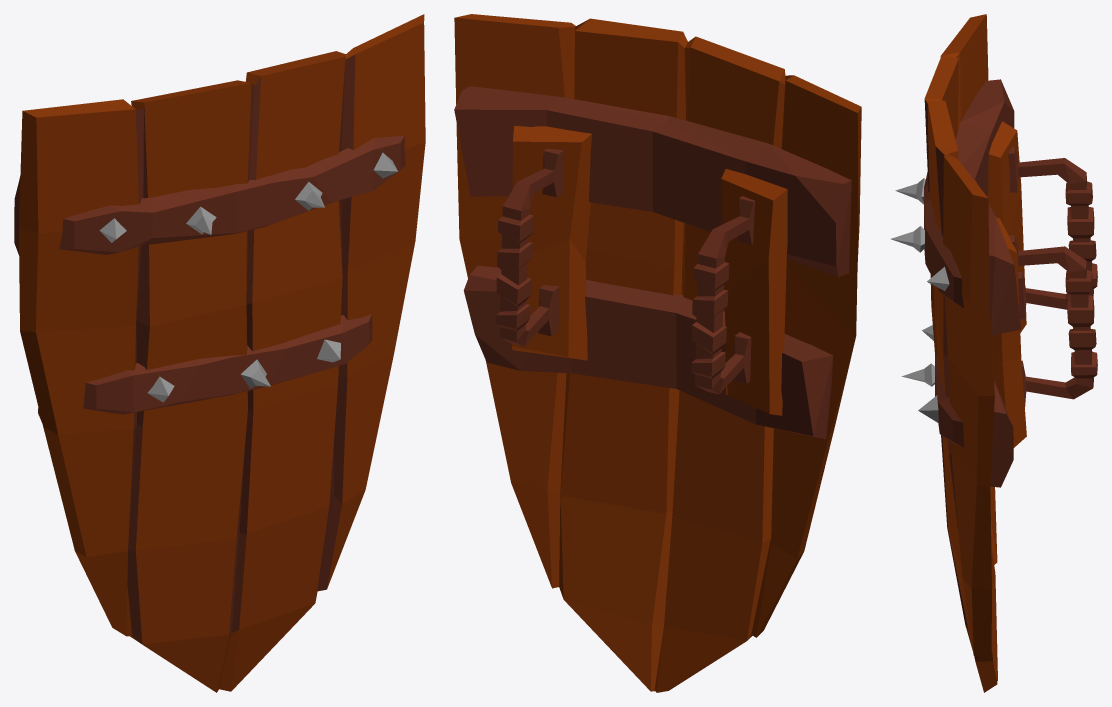
The model's file is ESCUDO.fbx.
The picture shows the model from 3 angles, left to right: view 1: azimuth 30°, elevation 25°; view 2: azimuth 150°, elevation 25°; view 3: azimuth 270°, elevation 25°; orthographic projection. The views are drawn at different scales.
Visible parts, largest first — view 1: SM_Wep_Shield_05; view 2: SM_Wep_Shield_05; view 3: SM_Wep_Shield_05.
Boxes of the visible parts, x1=… form: SM_Wep_Shield_05: x1=14, y1=14, x2=425, y2=692; SM_Wep_Shield_05: x1=454, y1=14, x2=861, y2=692; SM_Wep_Shield_05: x1=891, y1=14, x2=1097, y2=692.
Bounding box in the file's own units: 63.31 × 95.36 × 30.32.
